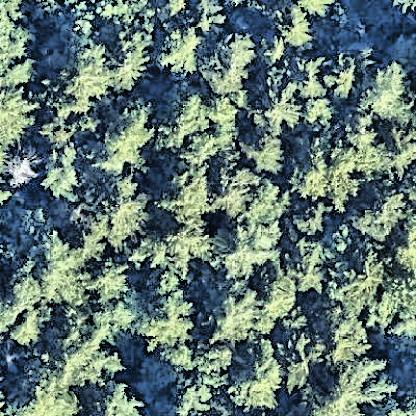tree-top: (164, 85, 239, 166), (27, 226, 98, 305), (286, 136, 363, 203), (220, 161, 294, 227), (305, 297, 377, 364), (132, 230, 216, 284), (45, 325, 119, 384), (137, 286, 201, 354), (98, 105, 158, 173), (155, 168, 218, 231), (321, 352, 398, 403), (93, 179, 153, 244), (228, 339, 282, 411), (168, 344, 224, 413), (55, 40, 118, 96), (218, 228, 283, 281), (204, 33, 257, 96), (11, 371, 81, 416), (74, 1, 149, 42), (363, 60, 411, 124), (1, 1, 35, 91), (253, 80, 302, 139), (355, 184, 403, 244), (159, 25, 207, 82), (1, 84, 42, 150), (93, 378, 162, 416), (210, 286, 259, 338), (272, 3, 323, 52), (377, 276, 416, 337), (288, 246, 332, 299), (346, 248, 391, 299), (86, 256, 131, 305), (39, 160, 83, 204), (376, 126, 416, 174), (247, 134, 289, 176), (111, 43, 148, 90), (331, 45, 365, 96)
